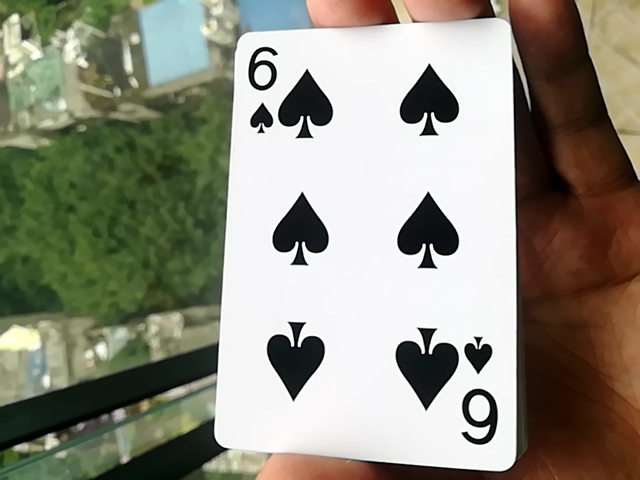ht 6: (201, 10, 520, 475)
